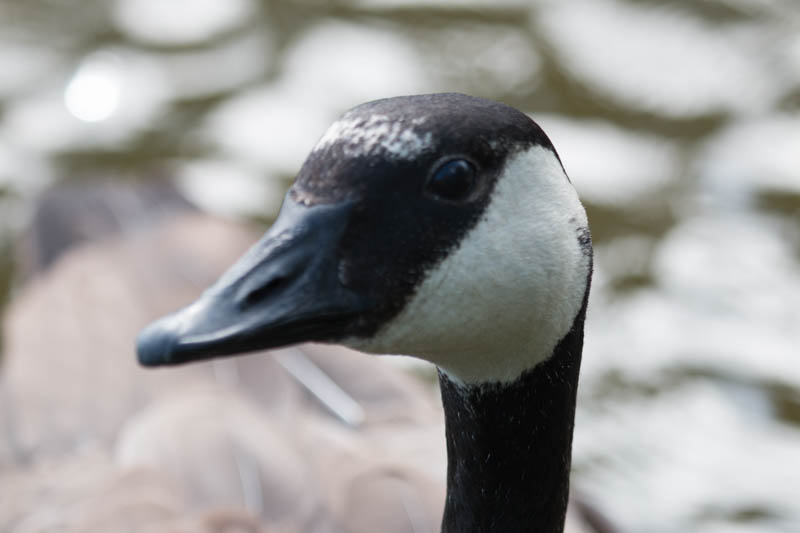goose-head: (136, 91, 593, 389)
